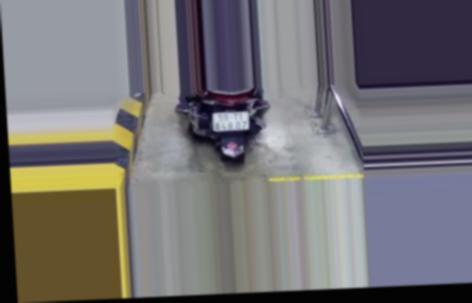License_Plate: (211, 107, 251, 136)
